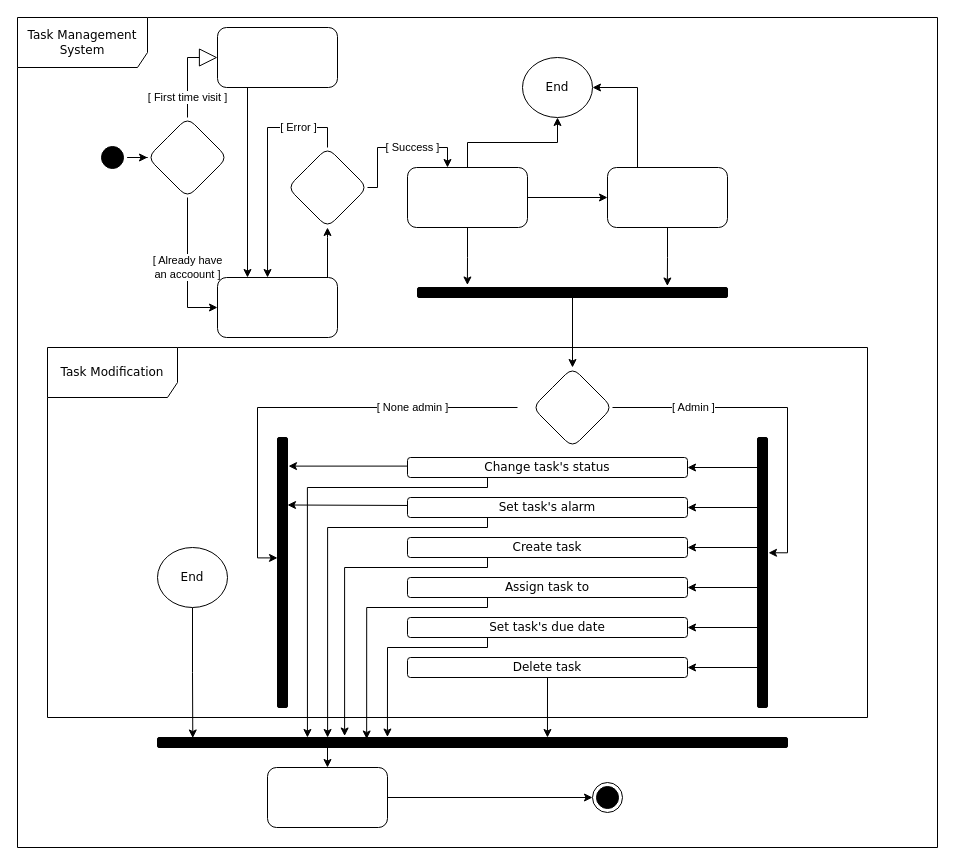
Image size: 955x865. Some labels were removed from this diagram. Each missing label, with the centre of its shape:
Choose and view dash board: the point at 667,197
Login: the point at 277,307
Logout: the point at 327,797
Register: the point at 277,57
View default dash board: the point at 467,197
